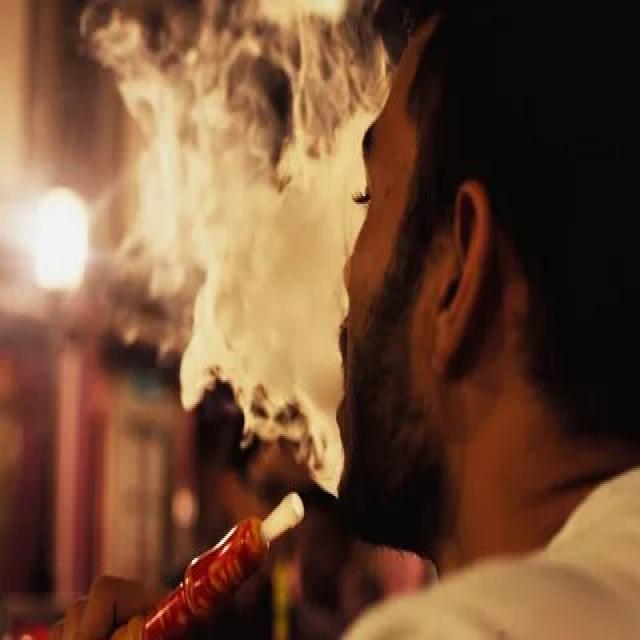smoke: (104, 484, 309, 640)
